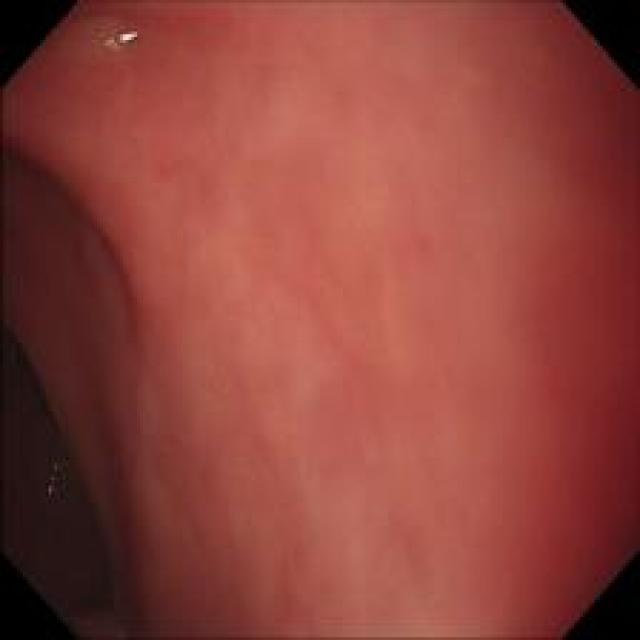contrast: (4, 126, 128, 630)
specularity: (39, 454, 68, 496), (105, 30, 139, 54)
